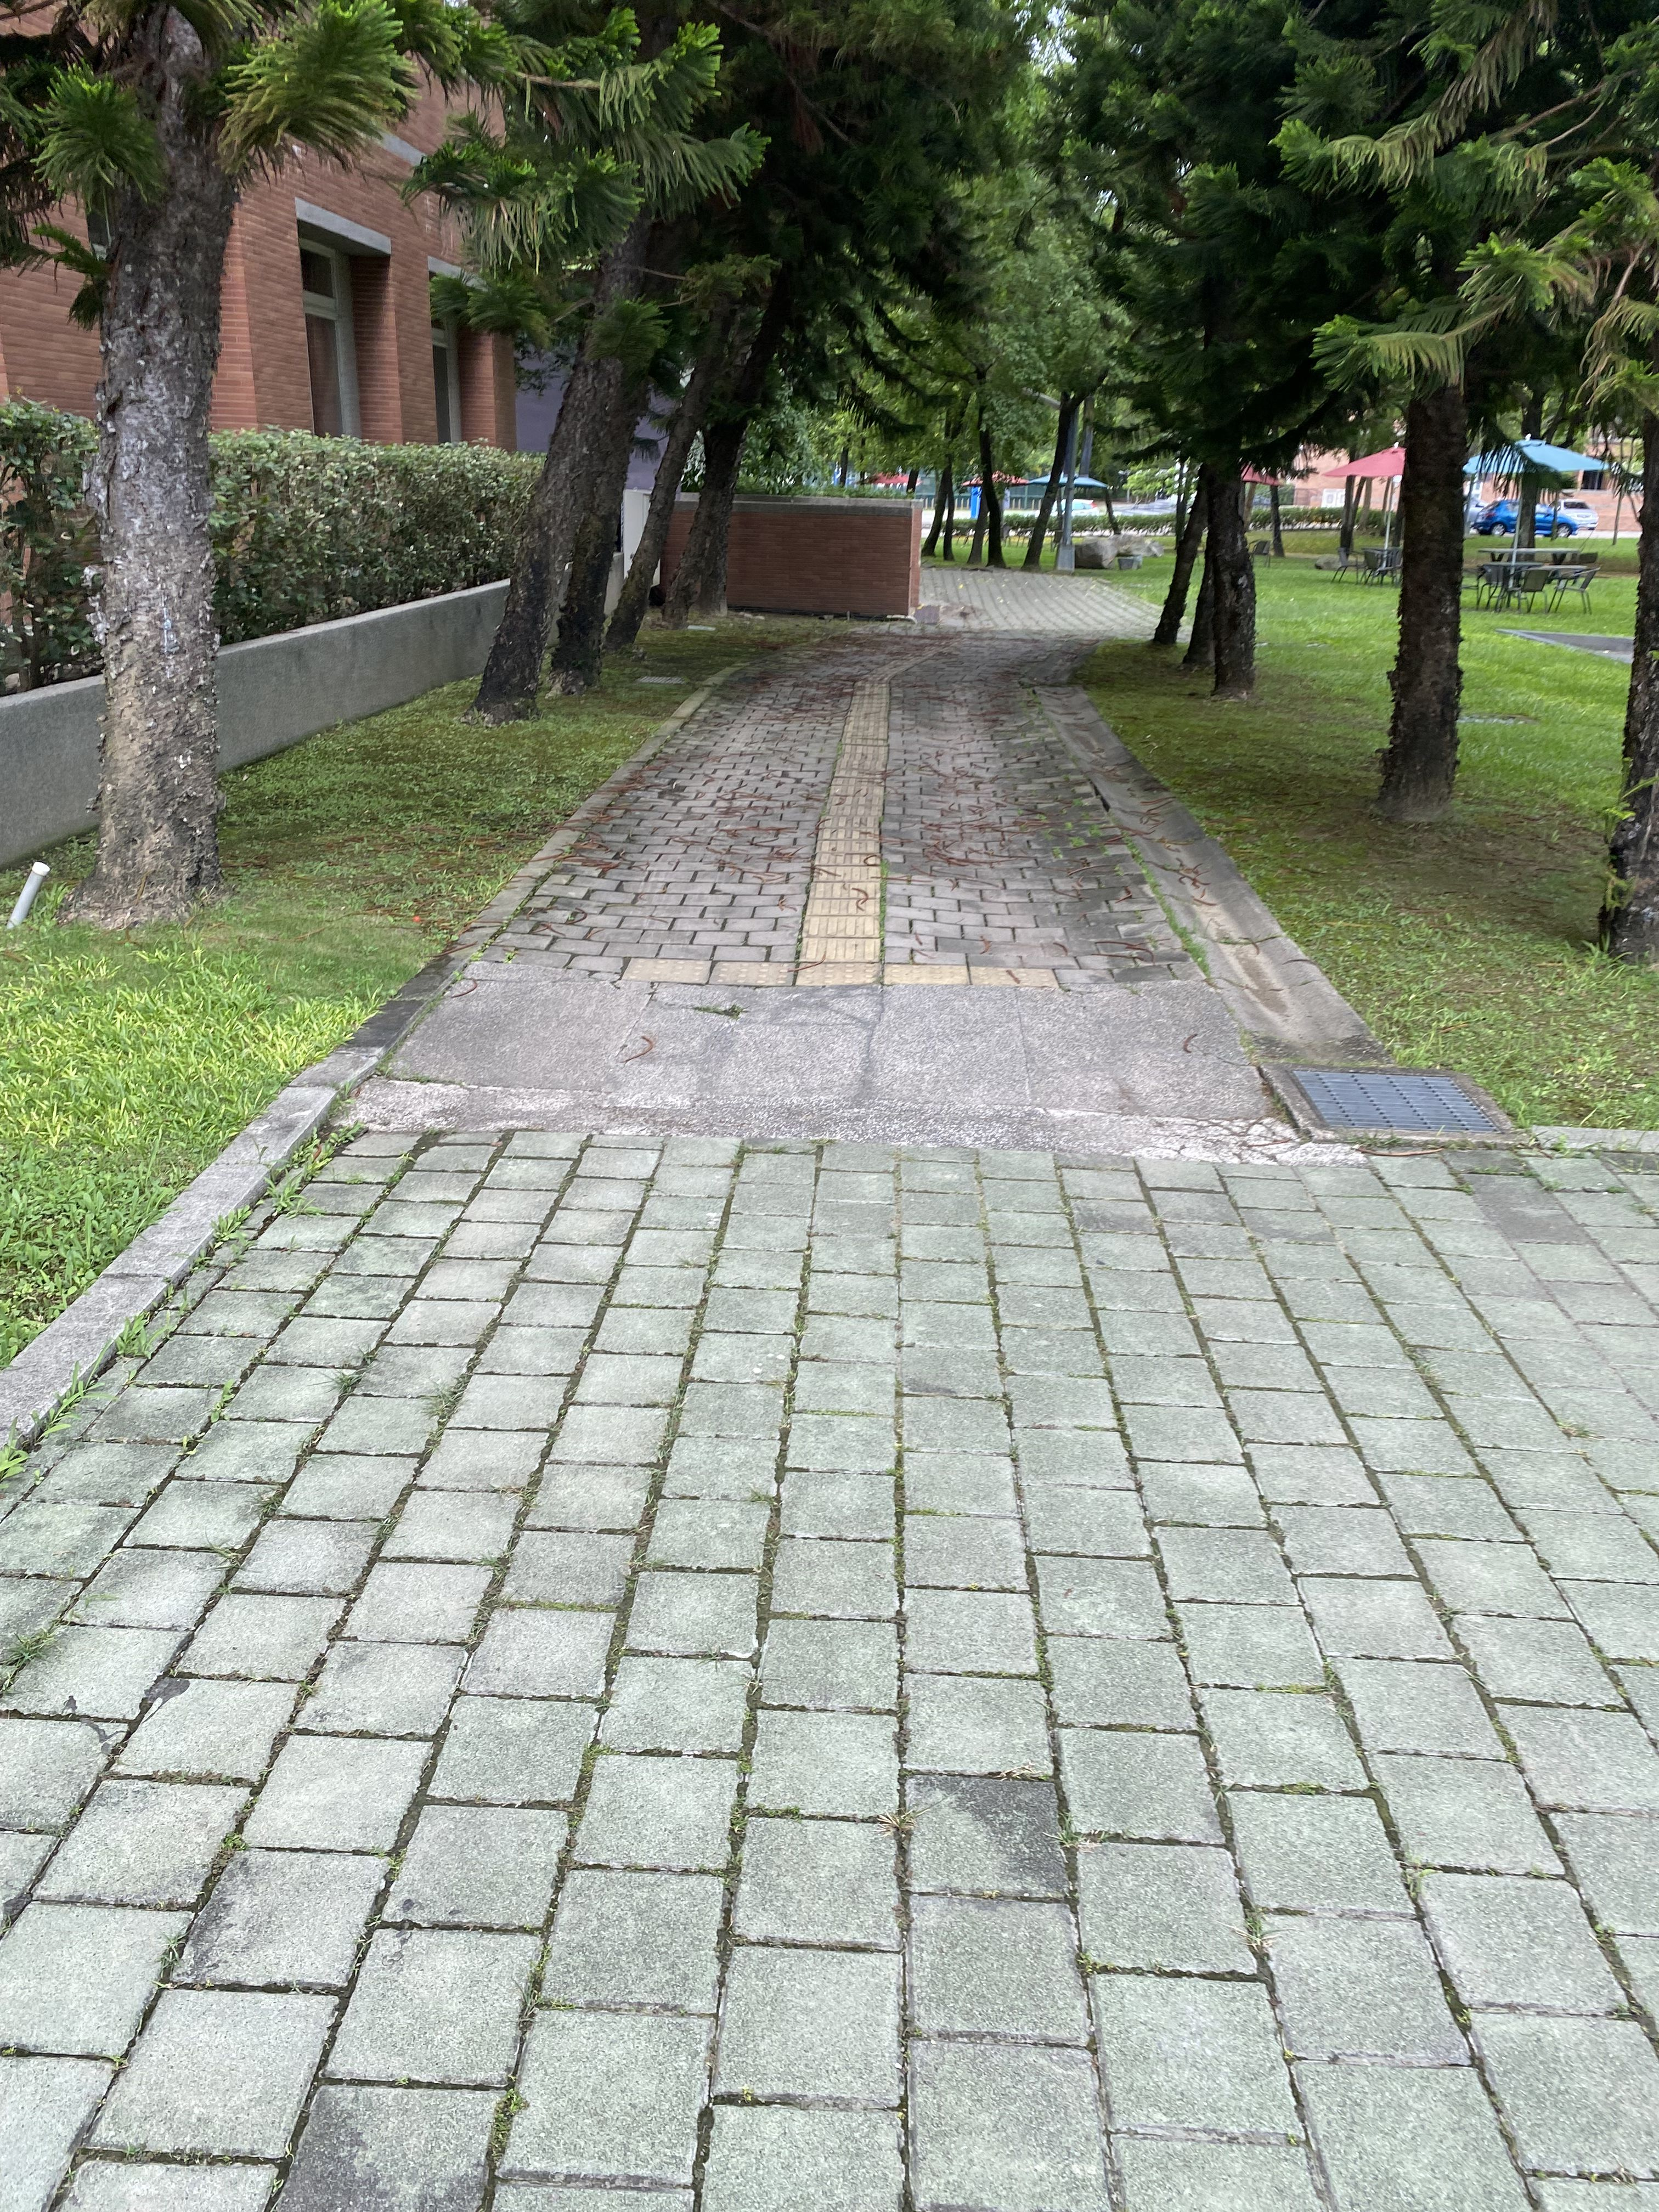sidewalk: (202, 495, 1558, 2212)
